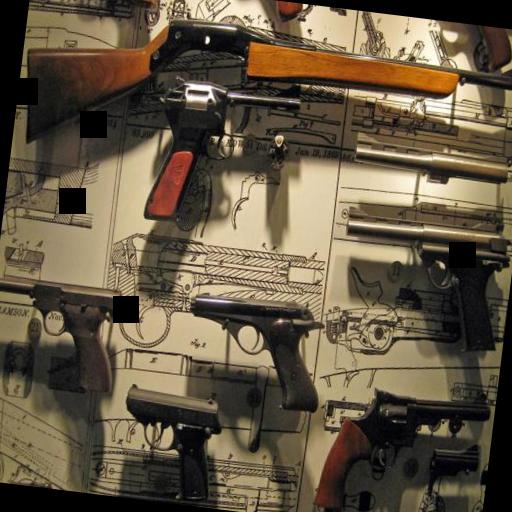Handgun: (328, 209, 512, 358), (142, 72, 298, 237), (310, 375, 494, 512), (174, 284, 331, 416), (0, 265, 129, 396), (108, 378, 226, 502)
